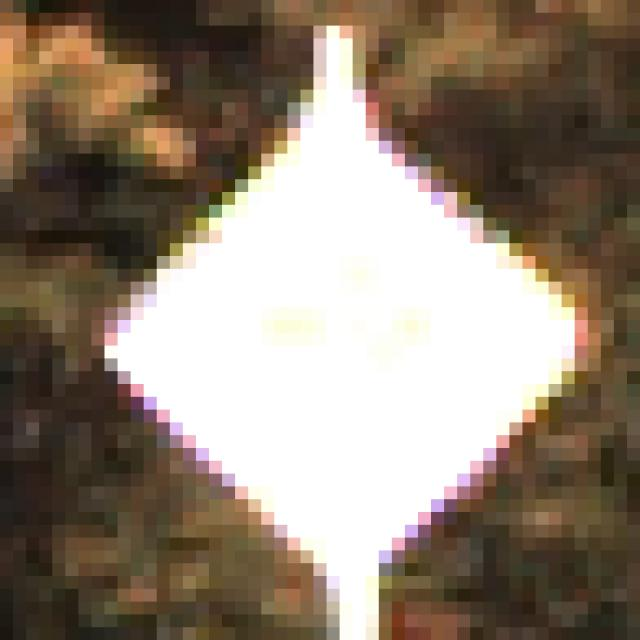Main Road: (79, 78, 576, 577)
